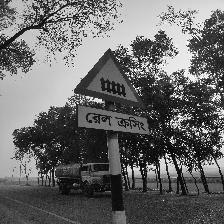Rail-crossing: (73, 48, 150, 136)
